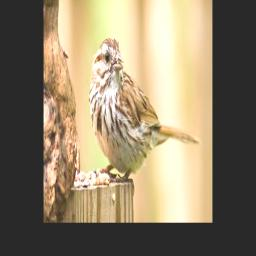Sparrow: (88, 35, 201, 197)
